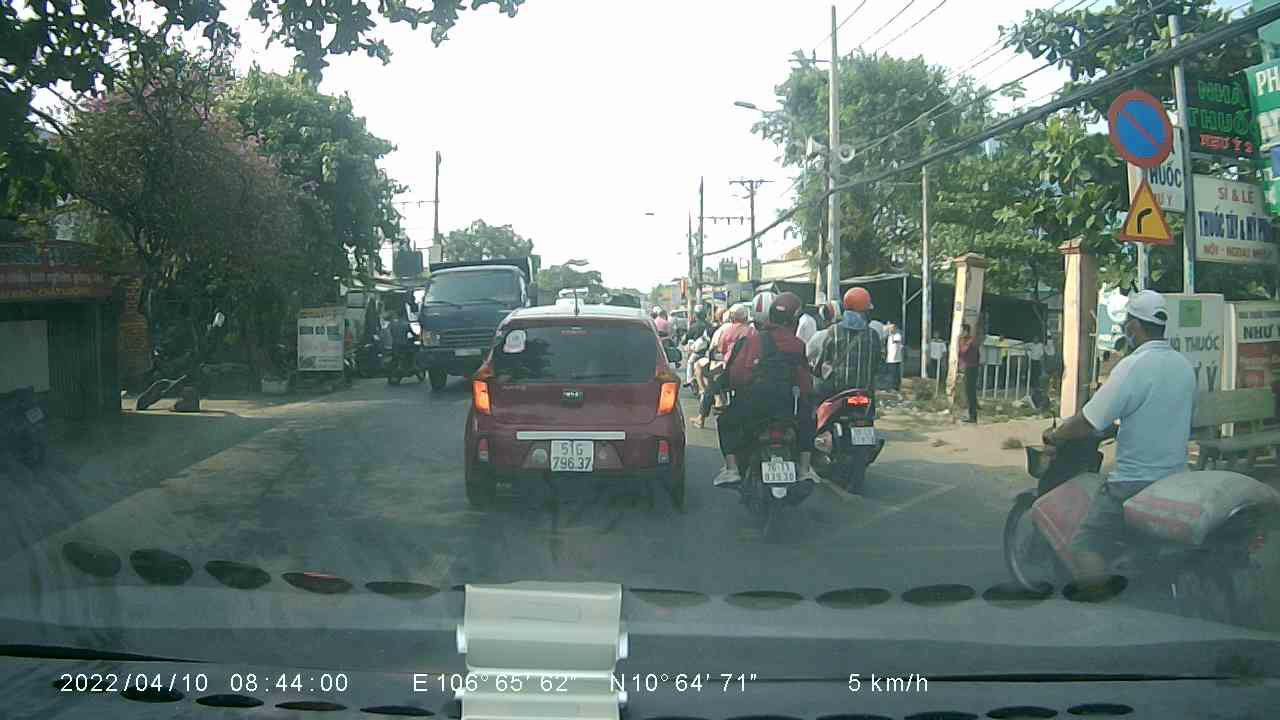Bien khac: (1113, 173, 1177, 246)
Cam do xe: (1101, 85, 1176, 166)
